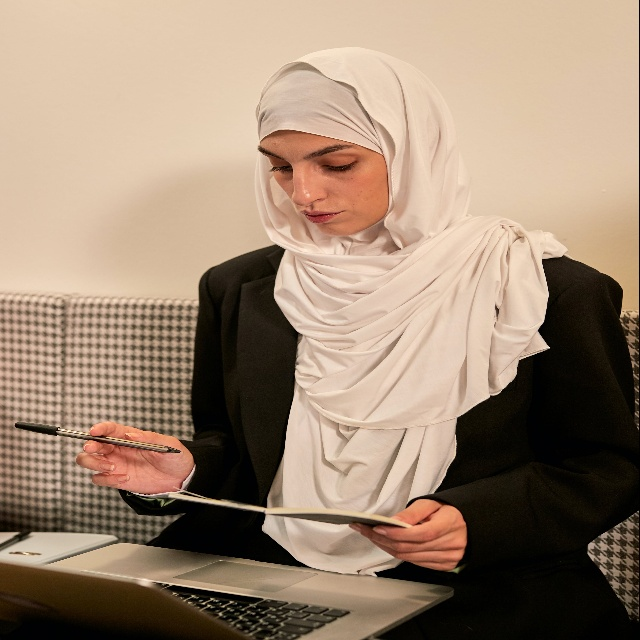Sin_guantes: (350, 496, 467, 573), (74, 423, 193, 495)
